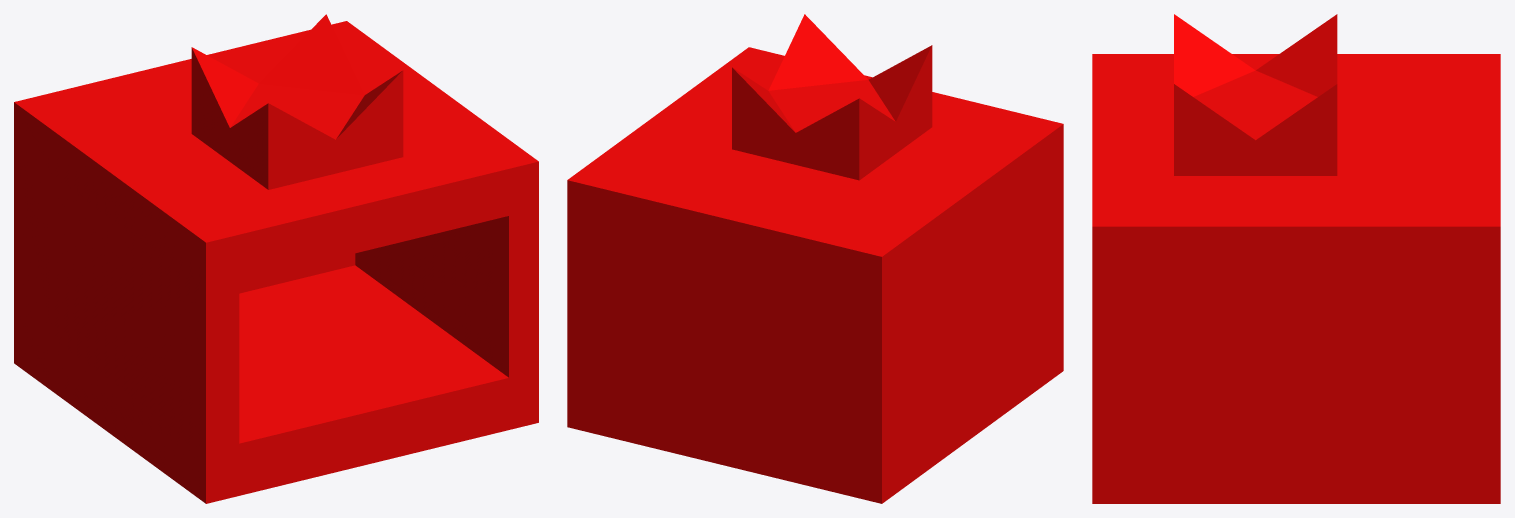
The model's file is injector.obj.
The picture shows the model from 3 angles, left to right: view 1: azimuth 30°, elevation 25°; view 2: azimuth 150°, elevation 25°; view 3: azimuth 270°, elevation 25°; orthographic projection. The views are drawn at different scales.
Parts seen in each view (by area): view 1: Cube_Cube.001; view 2: Cube_Cube.001; view 3: Cube_Cube.001.
Boxes of the visible parts, left/top/right/bottom form: Cube_Cube.001: left=14, top=14, right=538, bottom=503; Cube_Cube.001: left=567, top=14, right=1063, bottom=503; Cube_Cube.001: left=1092, top=14, right=1500, bottom=503.
Bounding box in the file's own units: 1 × 0.9995 × 1.
